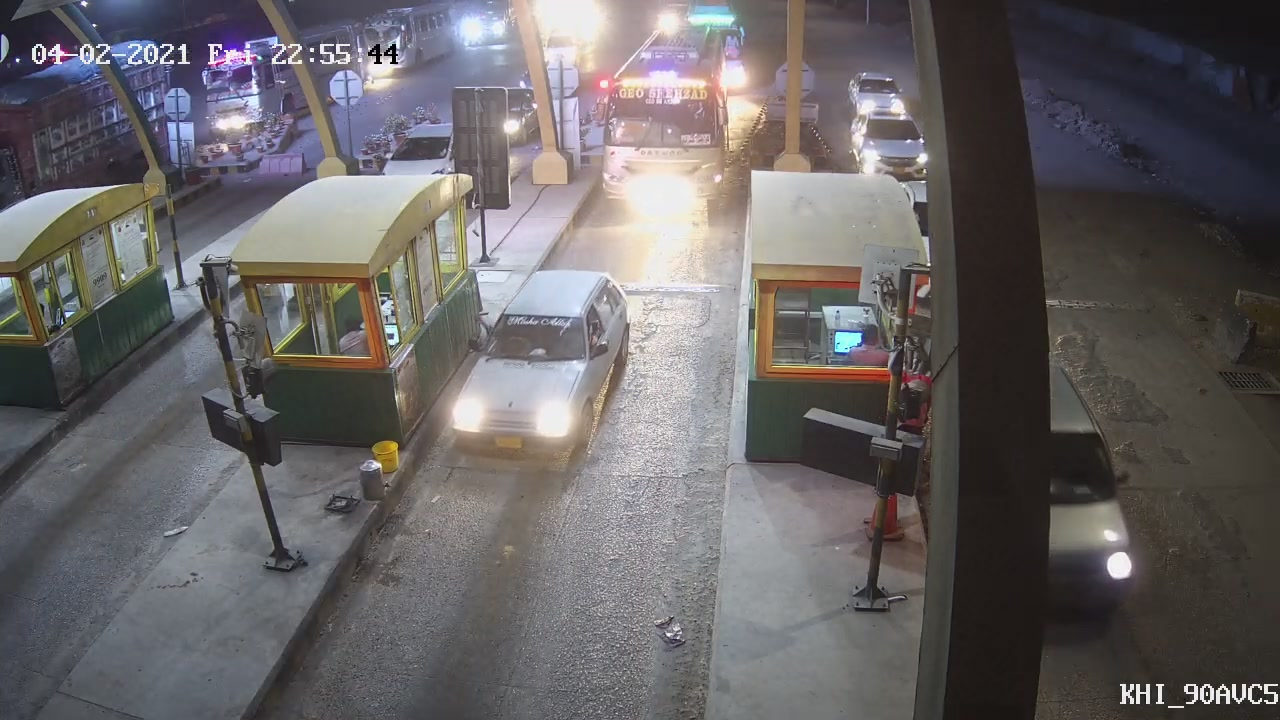F1: (441, 266, 635, 458)
